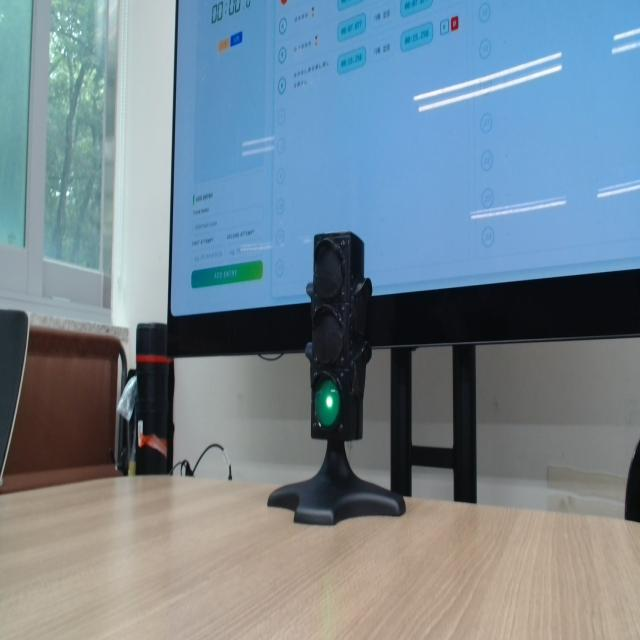green_light: (315, 379, 340, 430)
